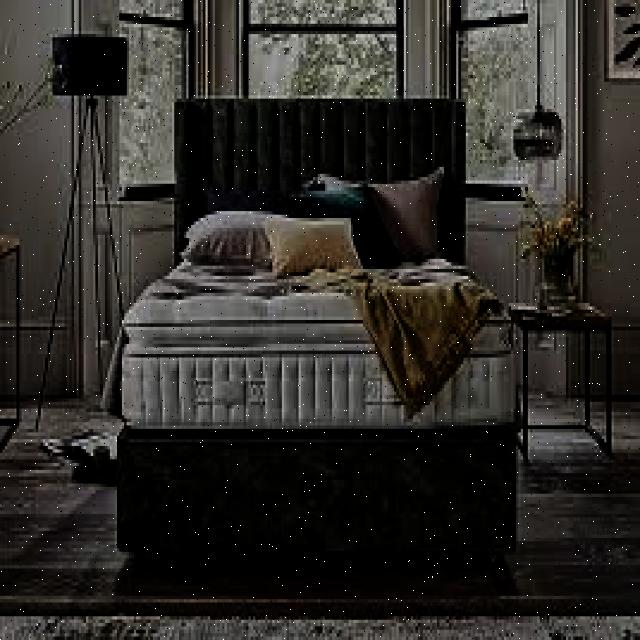bed: (106, 148, 526, 440)
